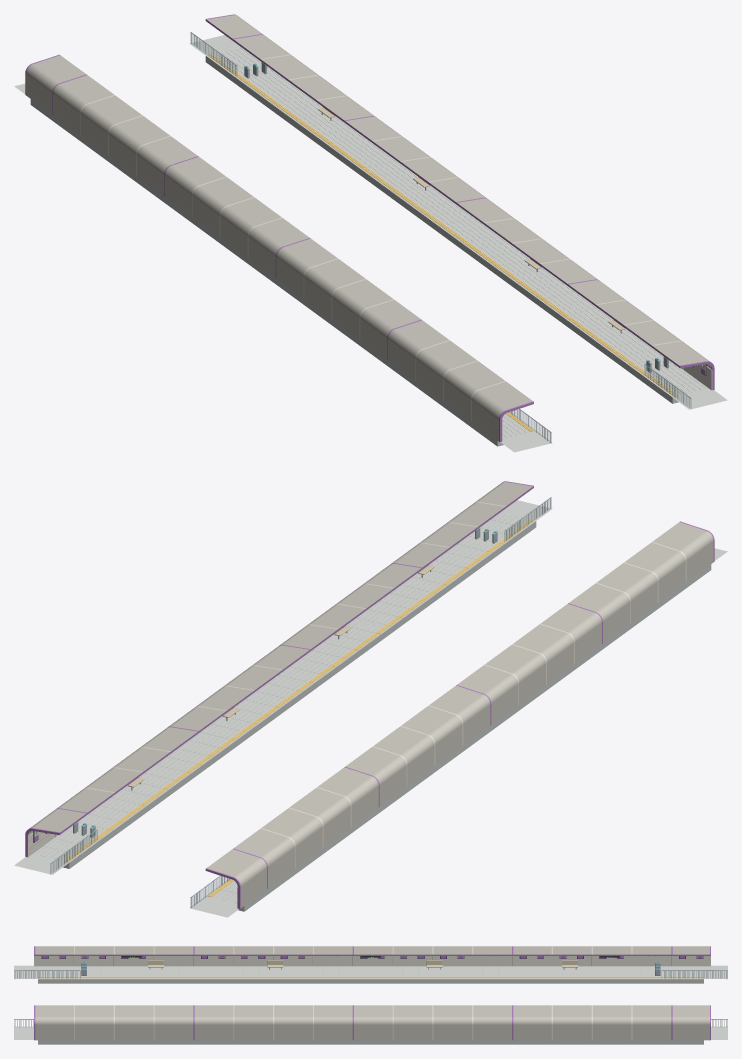
The model's file is station-A4.glb.
3 renders of one model, top to bottom at view 1: azimuth 30°, elevation 25°; view 2: azimuth 150°, elevation 25°; view 3: azimuth 270°, elevation 25°, orthographic. The views are drawn at different scales.
Parts seen in each view (by area): view 1: A4_platform_-1_roof, A4_platform_1_tile, A4_platform_1_roof, A4_platform_1_concrete, A4_platform_-1_concrete, A4_platform_1_yellow, A4_platform_-1_cladding, A4_platform_-1_tile, A4_platform_1_cladding; view 2: A4_platform_-1_roof, A4_platform_1_tile, A4_platform_1_roof, A4_platform_1_concrete, A4_platform_-1_concrete, A4_platform_1_yellow, A4_platform_-1_cladding, A4_platform_-1_tile, A4_platform_1_cladding, A4_platform_-1_accent; view 3: A4_platform_1_roof, A4_platform_-1_tile, A4_platform_-1_cladding, A4_platform_-1_roof, A4_platform_-1_concrete, A4_platform_1_concrete, A4_platform_-1_yellow, A4_platform_1_cladding, A4_platform_-1_accent, A4_platform_-1_sand, A4_platform_1_tile, A4_platform_-1_approach_rail_1_steel (+3 smaller).
Boxes of the visible parts, x1,y1,x2,y2 form: A4_platform_-1_roof: (26,55,532,441); A4_platform_1_tile: (189,35,727,409); A4_platform_1_roof: (206,15,711,368); A4_platform_1_concrete: (205,56,678,403); A4_platform_-1_concrete: (30,99,503,446); A4_platform_1_yellow: (208,54,704,396); A4_platform_-1_cladding: (80,95,505,441); A4_platform_-1_tile: (14,83,552,452); A4_platform_1_cladding: (260,54,712,390); A4_platform_-1_roof: (207,522,713,907); A4_platform_1_tile: (14,500,552,874); A4_platform_1_roof: (28,482,533,835); A4_platform_1_concrete: (63,521,536,868); A4_platform_-1_concrete: (238,564,711,911); A4_platform_1_yellow: (35,519,533,861); A4_platform_-1_cladding: (237,542,686,907); A4_platform_-1_tile: (189,548,727,917); A4_platform_1_cladding: (27,501,506,856); A4_platform_-1_accent: (205,521,714,908); A4_platform_1_roof: (35,1005,709,1040); A4_platform_-1_tile: (14,965,727,979); A4_platform_-1_cladding: (34,946,710,966); A4_platform_-1_roof: (35,946,709,965); A4_platform_-1_concrete: (38,966,703,983); A4_platform_1_concrete: (38,1040,703,1044); A4_platform_-1_yellow: (38,977,703,978); A4_platform_1_cladding: (74,1005,632,1040); A4_platform_-1_accent: (34,946,710,958); A4_platform_-1_sand: (148,960,577,967); A4_platform_1_tile: (14,1026,727,1039); A4_platform_-1_approach_rail_1_steel: (661,970,727,978).
Bounding box in the file's own units: 22.2 × 3.8 × 89.64.
